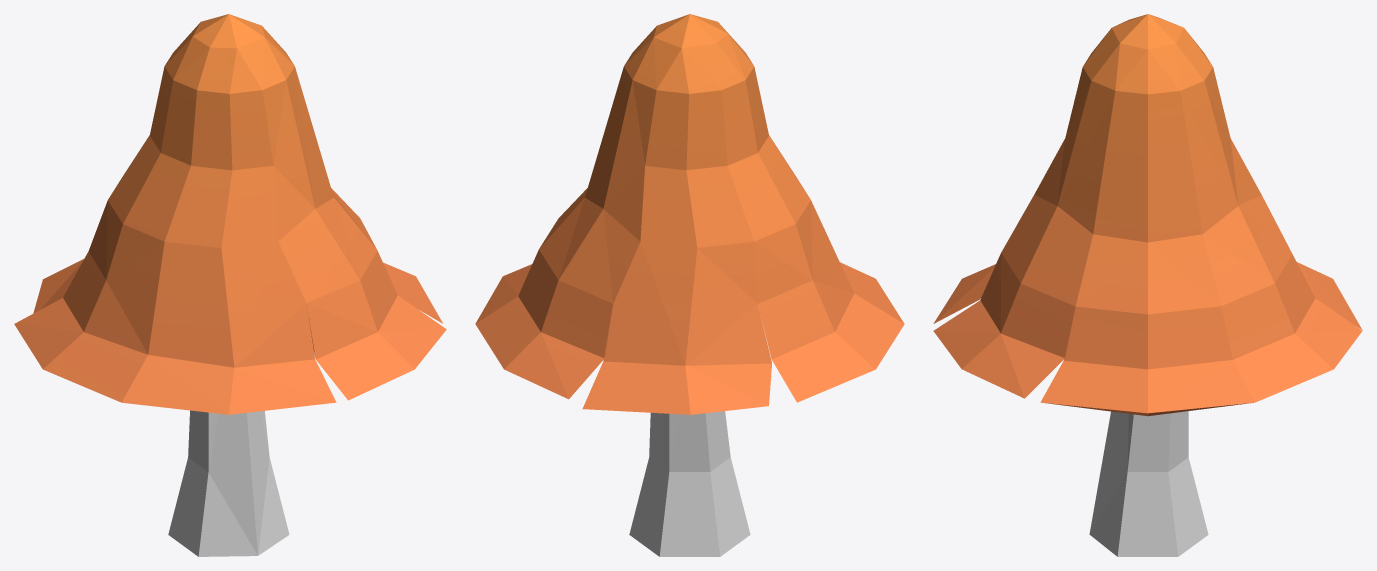
Rendered from Mushroom_04.fbx.
The picture shows the model from 3 angles, left to right: view 1: azimuth 30°, elevation 25°; view 2: azimuth 150°, elevation 25°; view 3: azimuth 270°, elevation 25°; orthographic projection.
Visible parts, largest first — view 1: Mushroom_04; view 2: Mushroom_04; view 3: Mushroom_04.
Boxes of the visible parts, left/top/right/bottom form: Mushroom_04: left=14, top=14, right=446, bottom=556; Mushroom_04: left=475, top=14, right=904, bottom=556; Mushroom_04: left=933, top=14, right=1362, bottom=556.
Size of the model in its own units: 0.3014 by 0.4019 by 0.3005.
